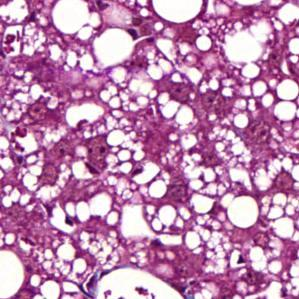steatosis: (47, 0, 96, 33)
